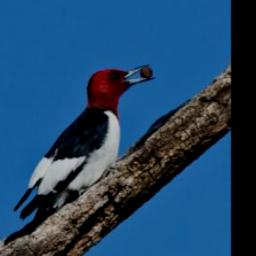Woodpecker: (12, 60, 157, 225)
